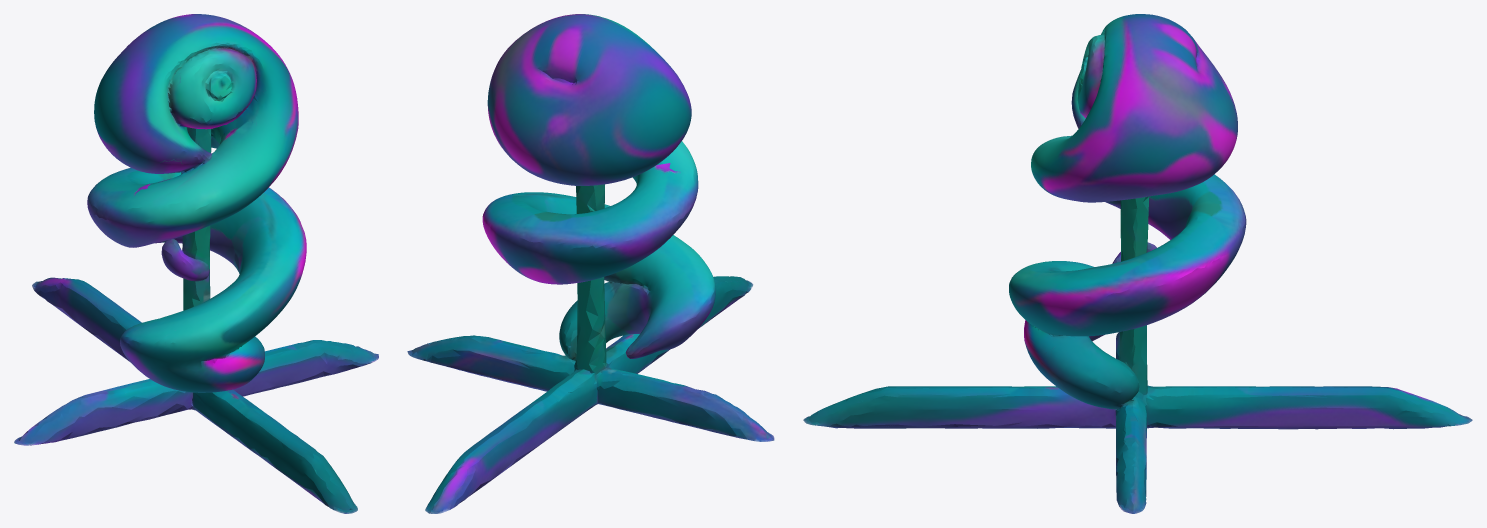
File: Pandora_Helicoradian.glb
3 views of the same model, side by side, from view 1: azimuth 30°, elevation 25°; view 2: azimuth 150°, elevation 25°; view 3: azimuth 270°, elevation 25° (orthographic). The views are drawn at different scales.
Parts seen in each view (by area): view 1: Helicoradian; view 2: Helicoradian; view 3: Helicoradian.
Part boxes in pixels (box(x1,y1,x2,y2)): Helicoradian: box(14, 14, 378, 513); Helicoradian: box(407, 14, 774, 513); Helicoradian: box(803, 14, 1472, 513).
Size of the model in its own units: 2.59 by 2.6 by 3.9.
Materials: 1 (1 with a texture image).
